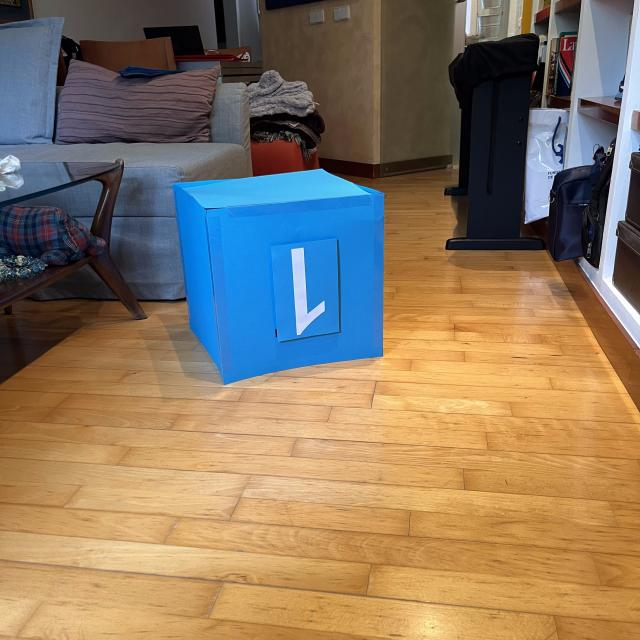box: (168, 164, 390, 386)
